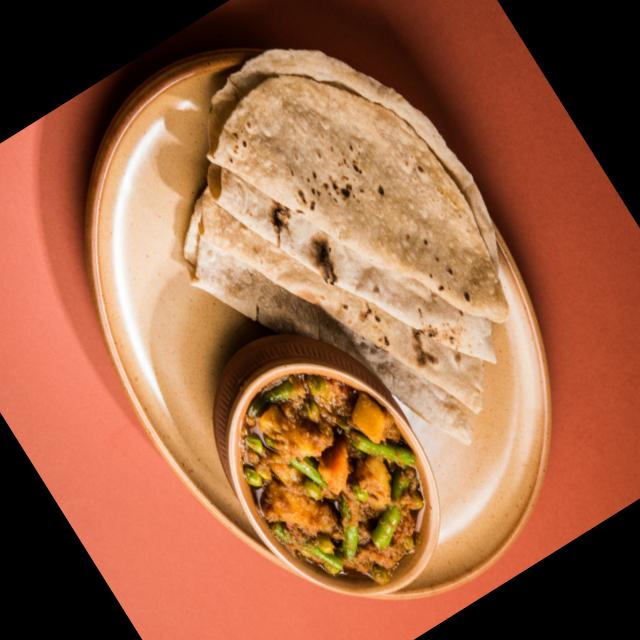roti: (187, 50, 496, 436)
